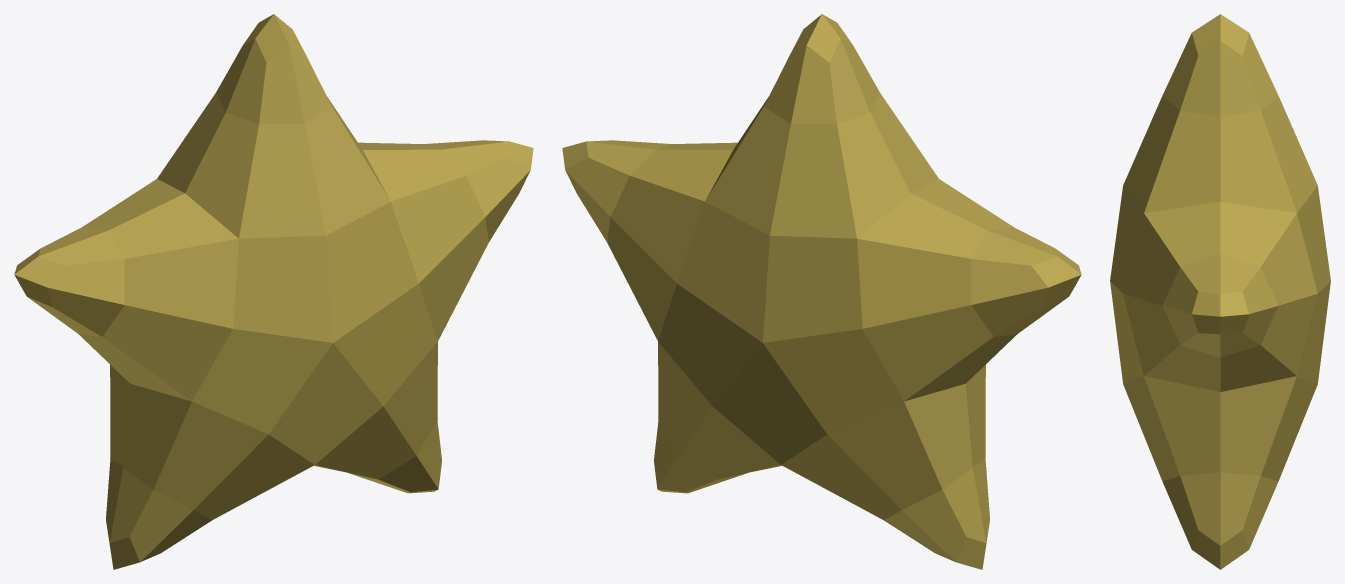
The model's file is Star.glb.
The picture shows the model from 3 angles, left to right: view 1: azimuth 30°, elevation 25°; view 2: azimuth 150°, elevation 25°; view 3: azimuth 270°, elevation 25°; orthographic projection. The views are drawn at different scales.
Visible parts, largest first — view 1: Star; view 2: Star; view 3: Star.
Boxes of the visible parts, bbox=[...] form: Star: bbox=[14, 14, 533, 569]; Star: bbox=[562, 14, 1081, 569]; Star: bbox=[1110, 14, 1330, 569].
Bounding box in the file's own units: 0.1398 × 0.1329 × 0.0551.
